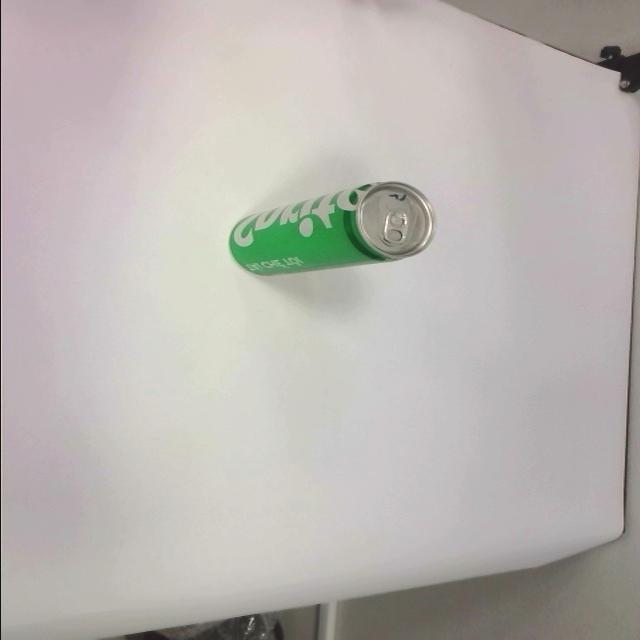debris: (227, 181, 436, 276)
